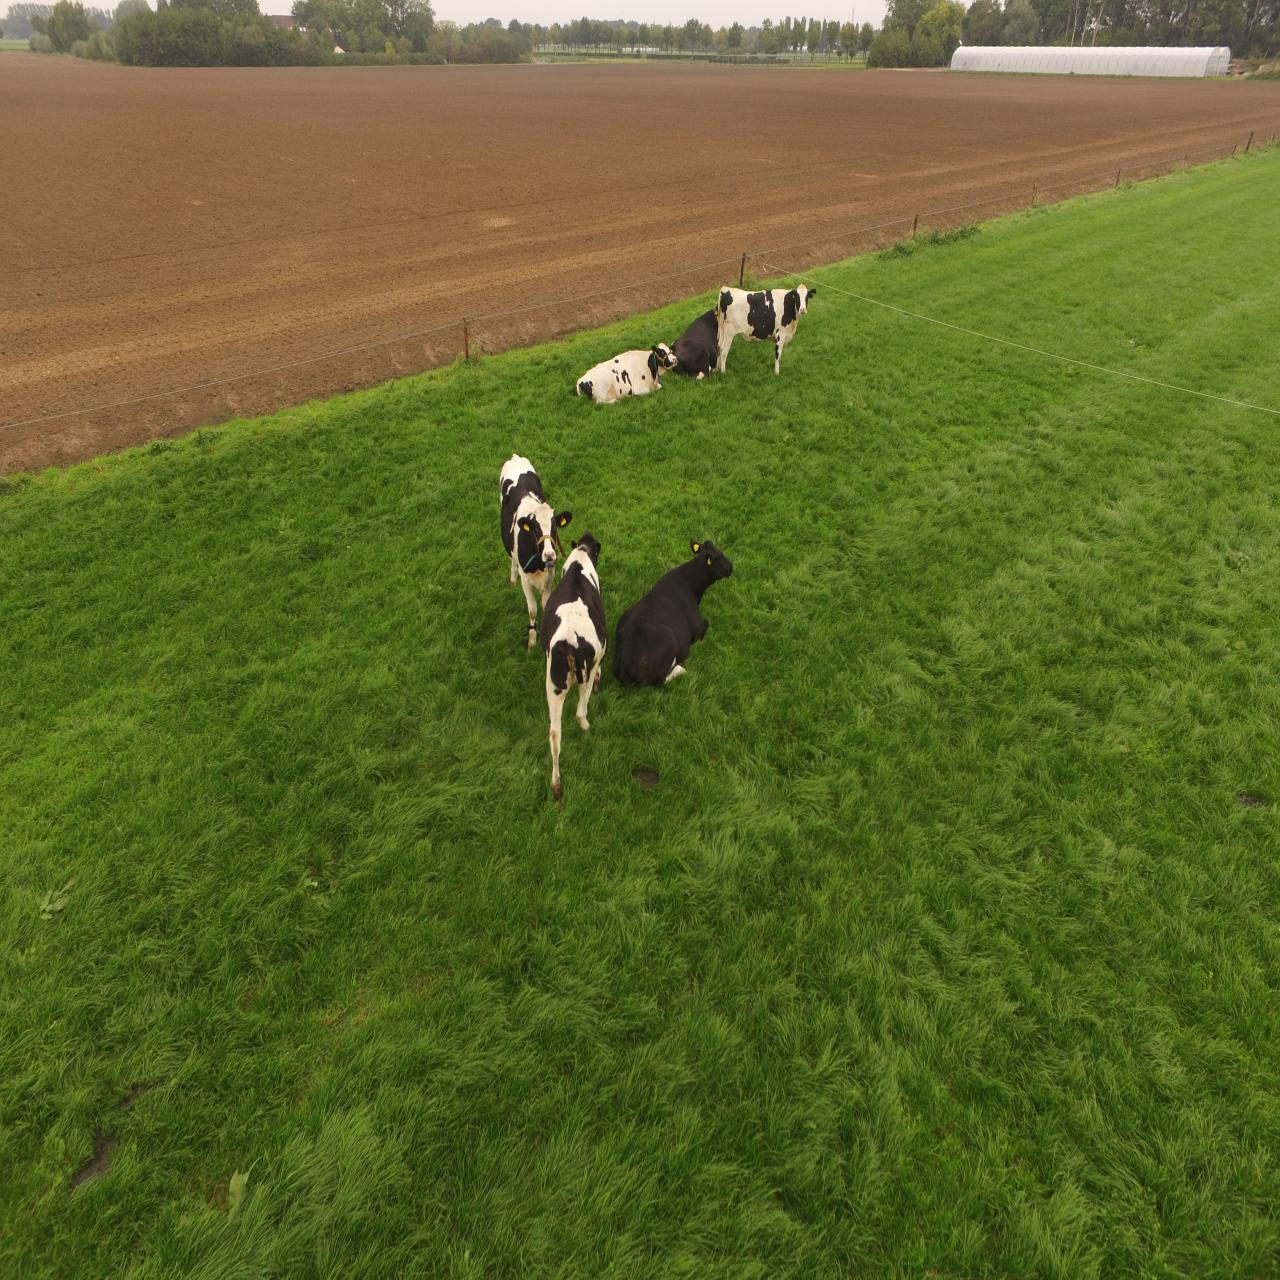cow: (621, 527, 747, 707), (531, 523, 607, 799), (701, 268, 828, 372), (478, 442, 557, 599), (567, 348, 680, 406), (673, 305, 733, 369)
